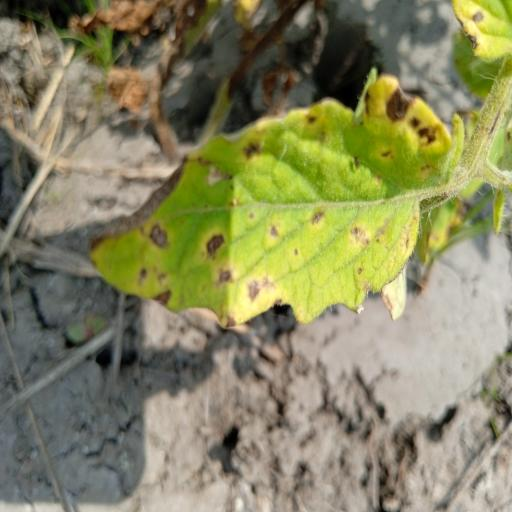Tomato_Brown_Spots: (73, 62, 462, 337)
